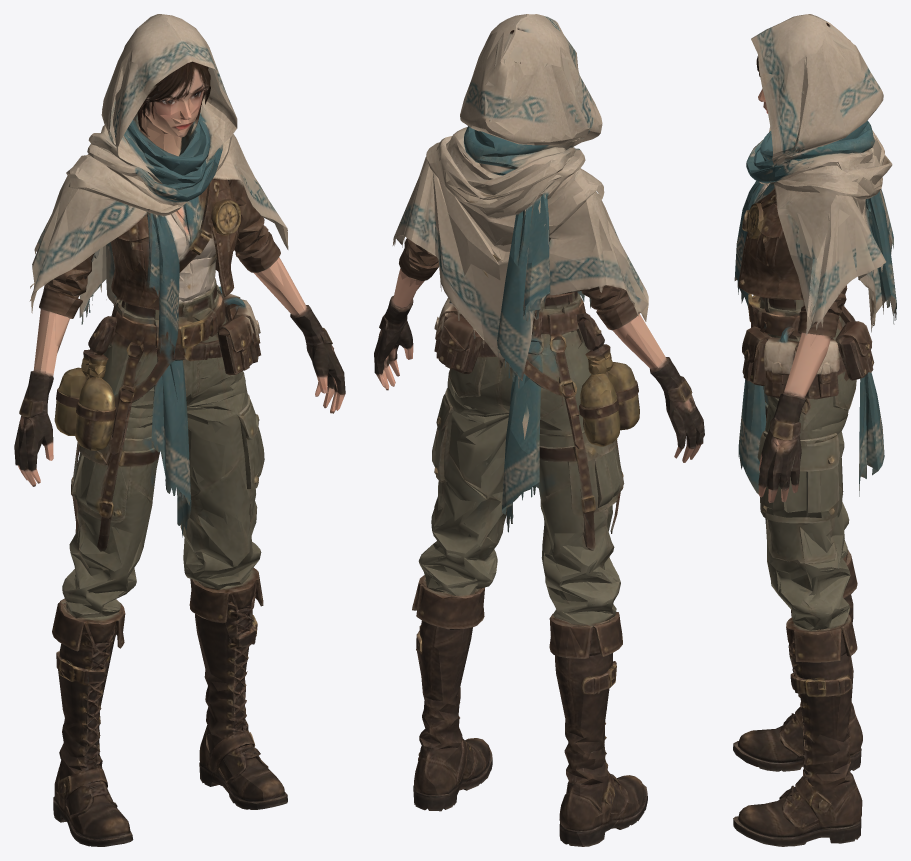
File: Climboria. hero.glb
The picture shows the model from 3 angles, left to right: view 1: azimuth 30°, elevation 25°; view 2: azimuth 150°, elevation 25°; view 3: azimuth 270°, elevation 25°; orthographic projection.
Visible parts, largest first — view 1: output_unwrapped; view 2: output_unwrapped; view 3: output_unwrapped.
Boxes of the visible parts, x1=… form: output_unwrapped: x1=14, y1=14, x2=345, y2=846; output_unwrapped: x1=374, y1=14, x2=704, y2=846; output_unwrapped: x1=733, y1=14, x2=896, y2=846.
Size of the model in its own units: 0.0642 by 0.15 by 0.0284.
Materials: 1 (1 with a texture image).
